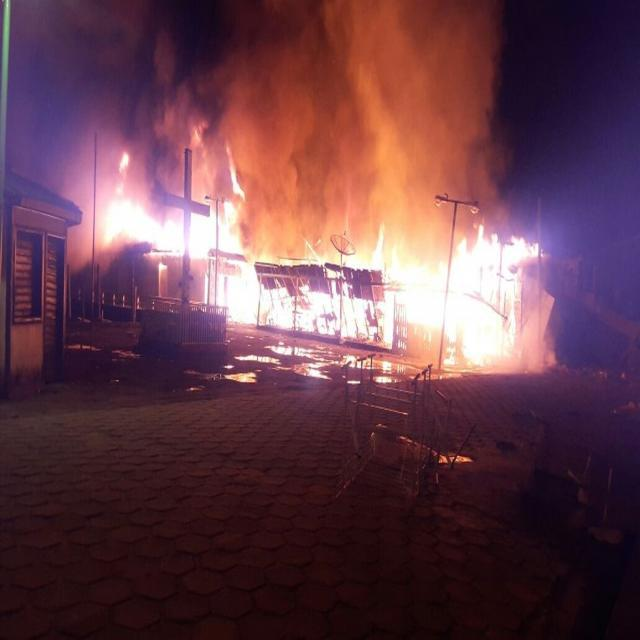Fire: (252, 210, 534, 352), (110, 163, 254, 321)
